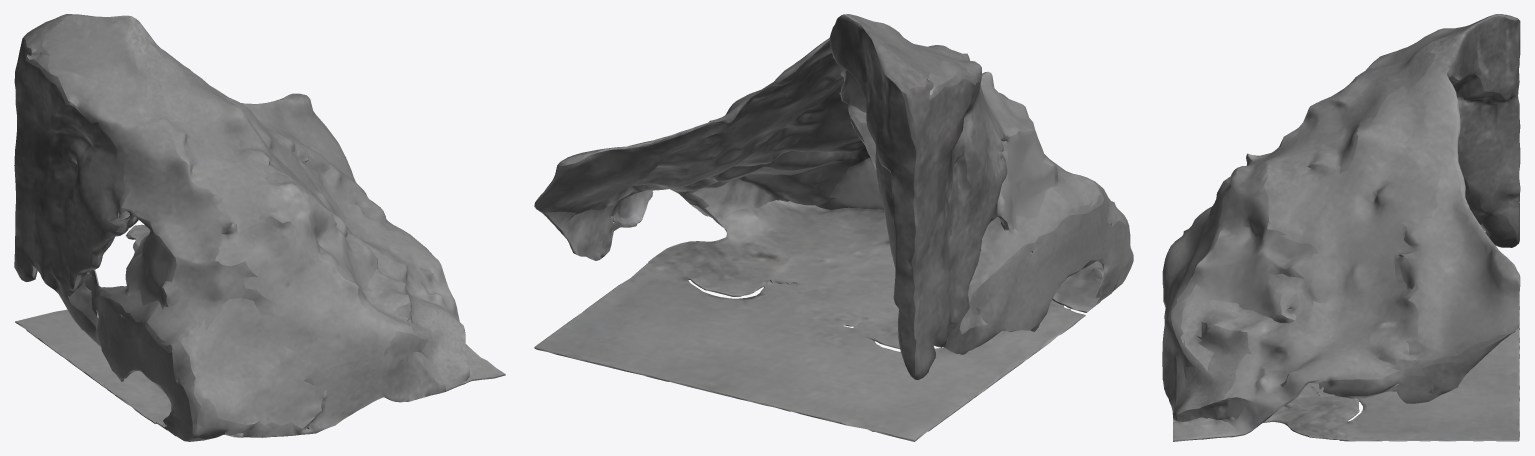
3 views of the same model, side by side, from view 1: azimuth 30°, elevation 25°; view 2: azimuth 150°, elevation 25°; view 3: azimuth 270°, elevation 25° (orthographic). The views are drawn at different scales.
Visible parts, largest first — view 1: world; view 2: world; view 3: world.
Boxes of the visible parts, x1,y1,x2,y2 form: world: [14, 14, 505, 441]; world: [534, 14, 1133, 441]; world: [1162, 14, 1520, 441].
Bounding box in the file's own units: 0.35 × 0.3298 × 0.3499.
Materials: 1 (1 with a texture image).
